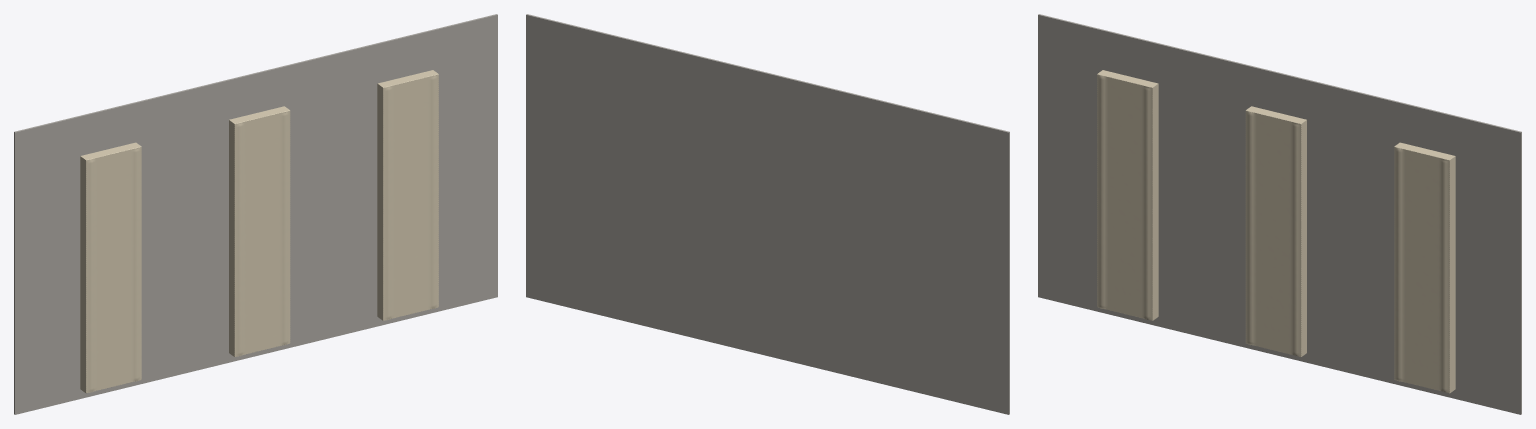
Rendered from terilgan.glb.
3 views of the same model, side by side, from view 1: azimuth 30°, elevation 25°; view 2: azimuth 150°, elevation 25°; view 3: azimuth 330°, elevation 25° (orthographic).
Visible parts, largest first — view 1: Devor, t1, t0, t2; view 2: Devor; view 3: Devor, t1, t2, t0.
Boxes of the visible parts, box(x1,y1,x2,y2) form: Devor: box(14, 14, 497, 414); t1: box(229, 106, 290, 356); t0: box(80, 142, 141, 393); t2: box(377, 70, 438, 320); Devor: box(526, 14, 1009, 414); Devor: box(1038, 14, 1521, 414); t1: box(1245, 106, 1306, 356); t2: box(1394, 142, 1455, 393); t0: box(1097, 70, 1158, 320).
Size of the model in its own units: 2.6 by 1.45 by 0.071.
